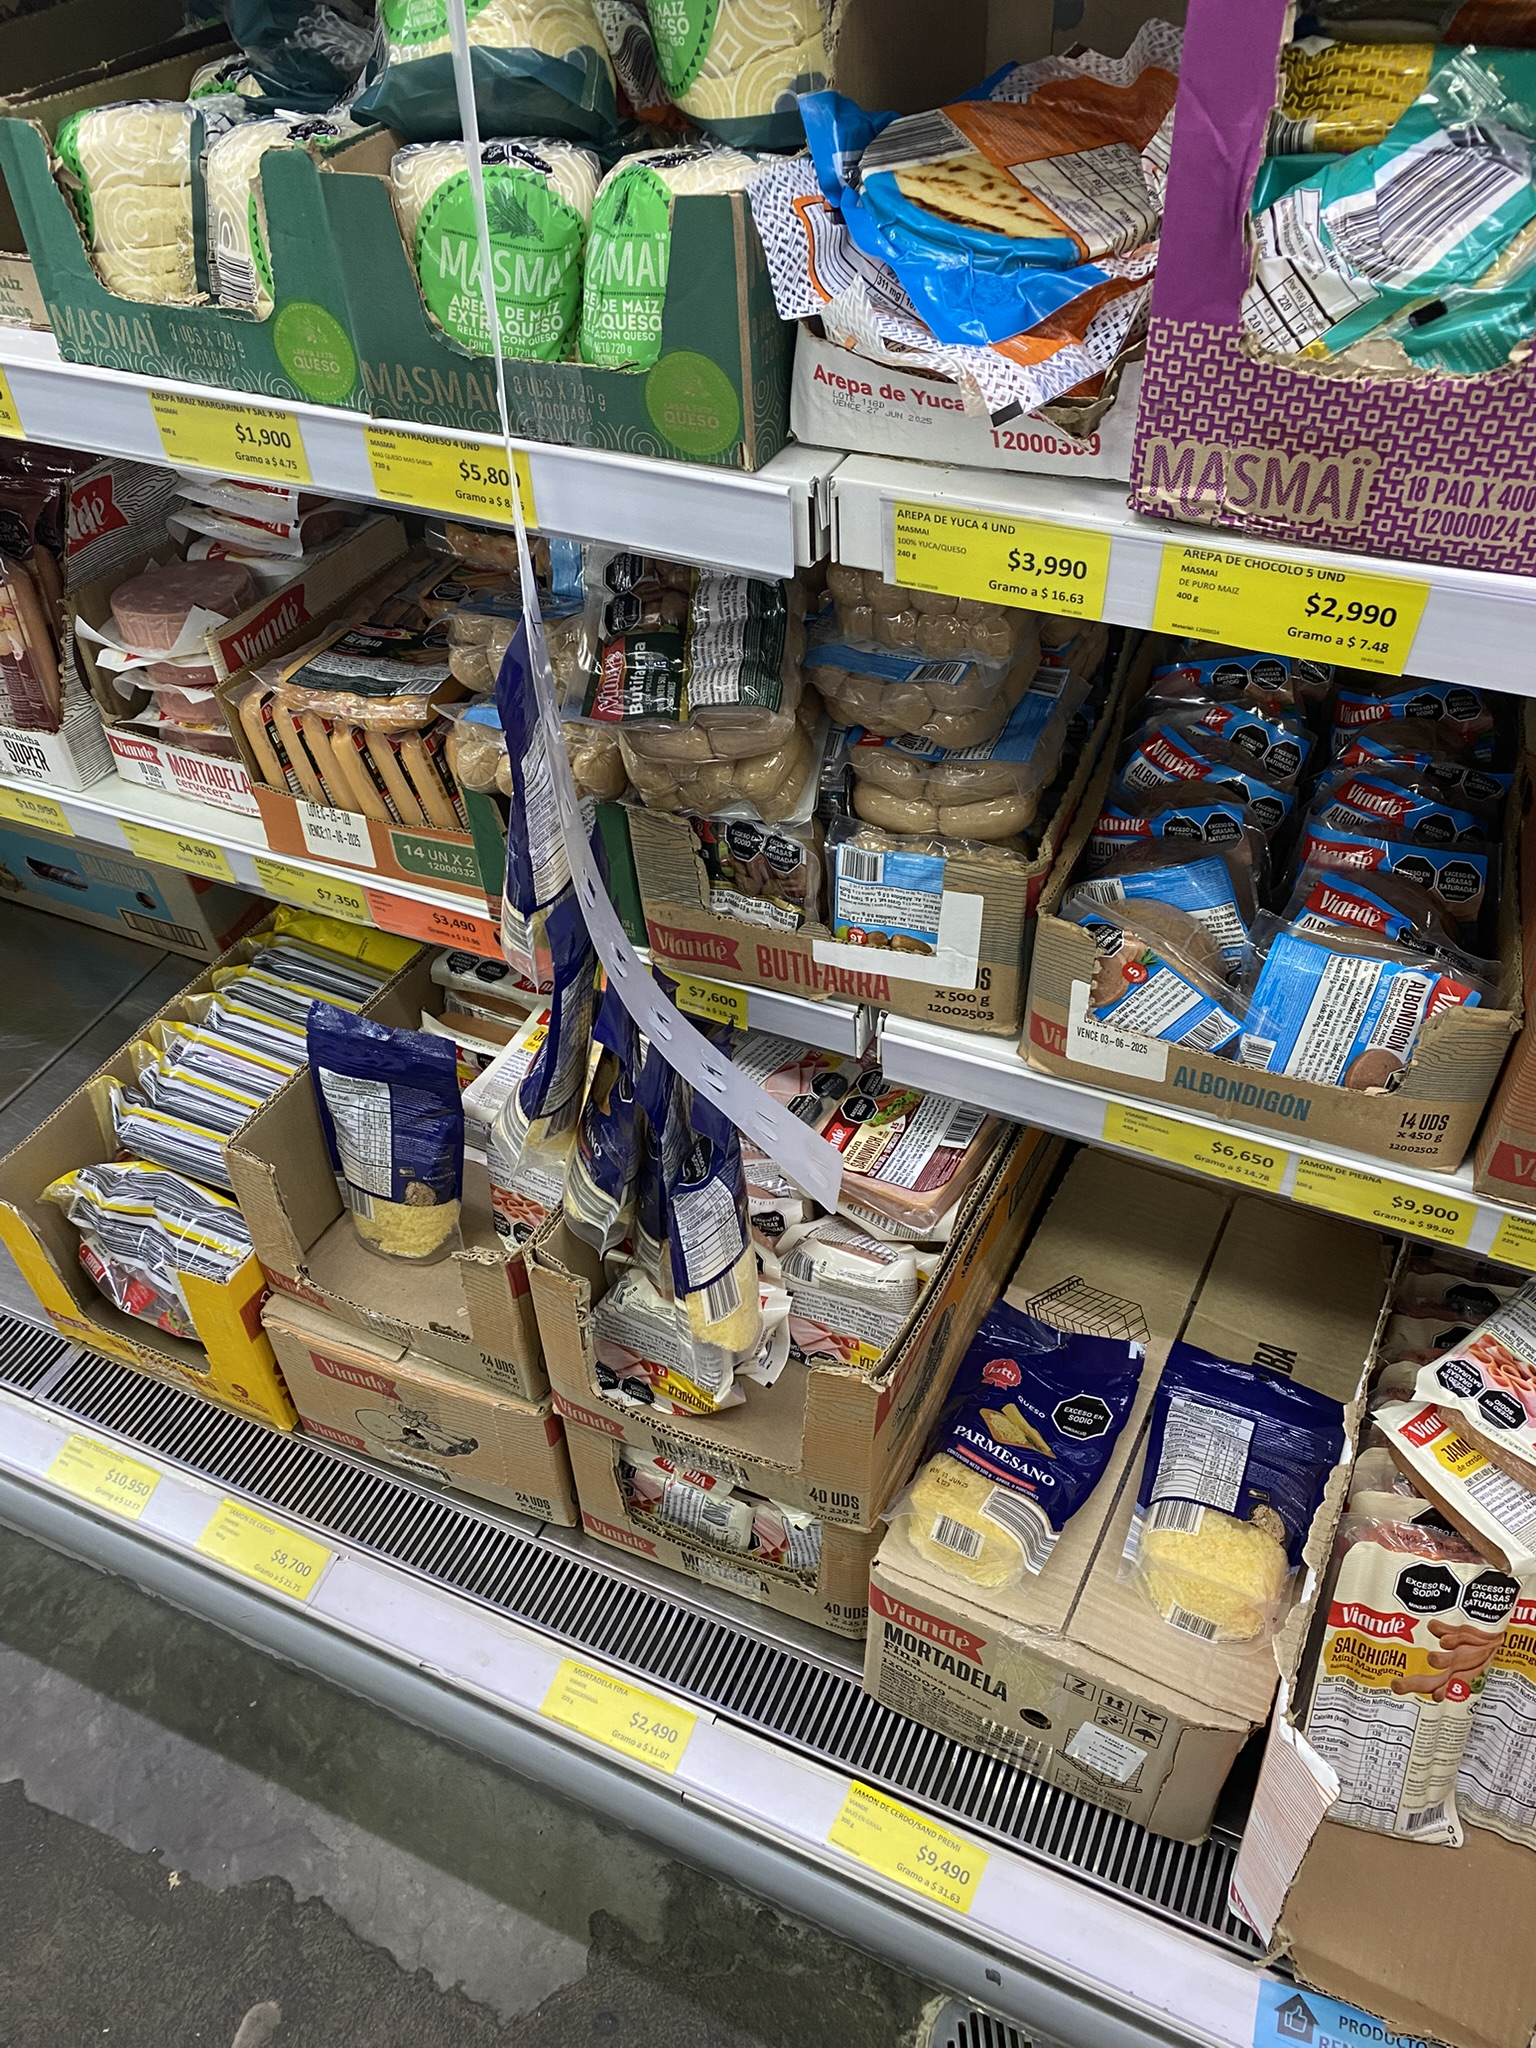Queso Parmesano: (1121, 1335, 1357, 1643), (900, 1311, 1155, 1574), (321, 1006, 478, 1261), (655, 1050, 787, 1309), (487, 879, 607, 1153), (553, 969, 660, 1237), (486, 643, 561, 953)
